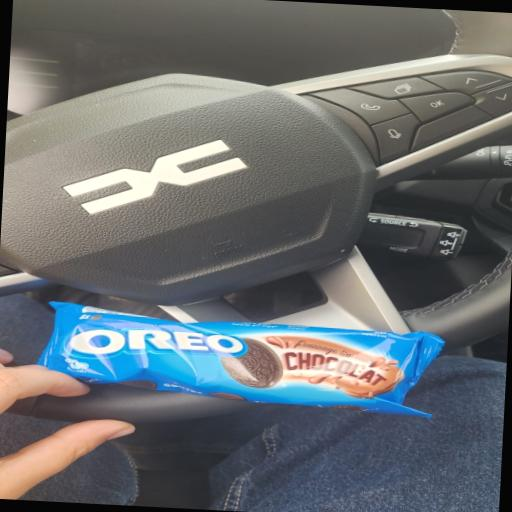oreo: (10, 264, 486, 463)
